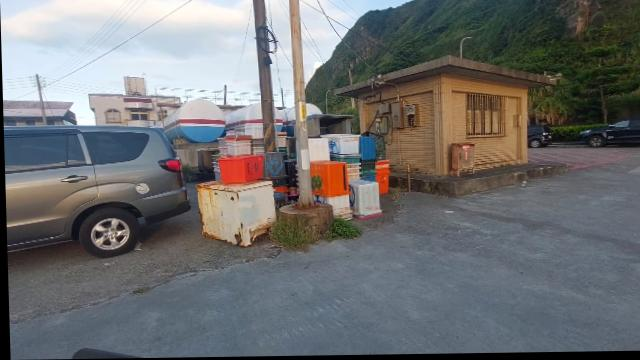pollute: (307, 133, 388, 225), (197, 180, 276, 247), (215, 153, 261, 187)
